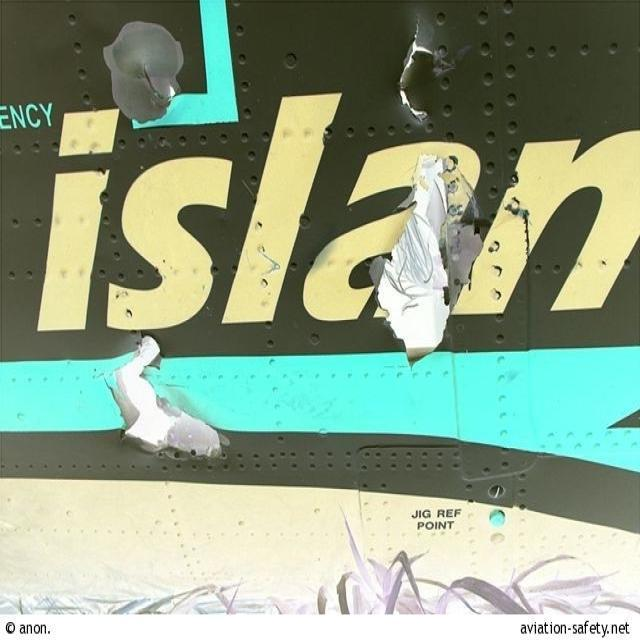crack: (370, 149, 458, 369), (110, 333, 230, 461), (396, 13, 446, 130), (136, 59, 179, 113)
